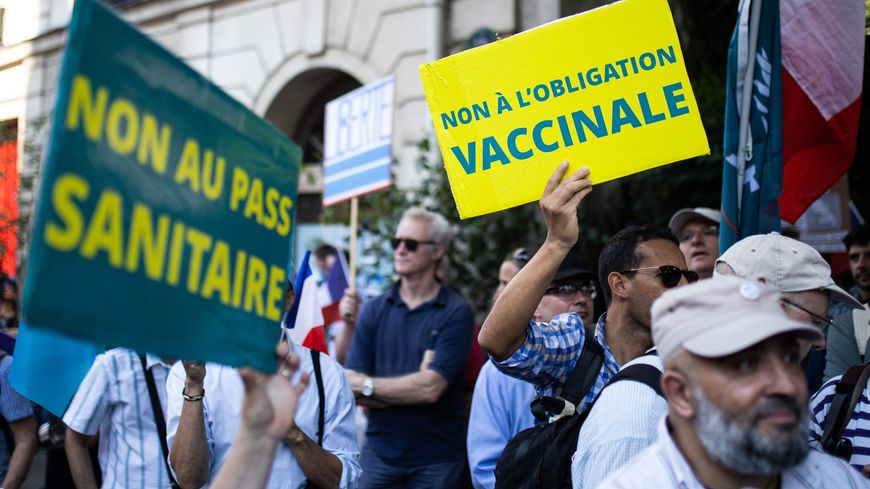without_mask: (694, 344, 822, 469), (389, 232, 448, 276), (676, 223, 724, 272)
